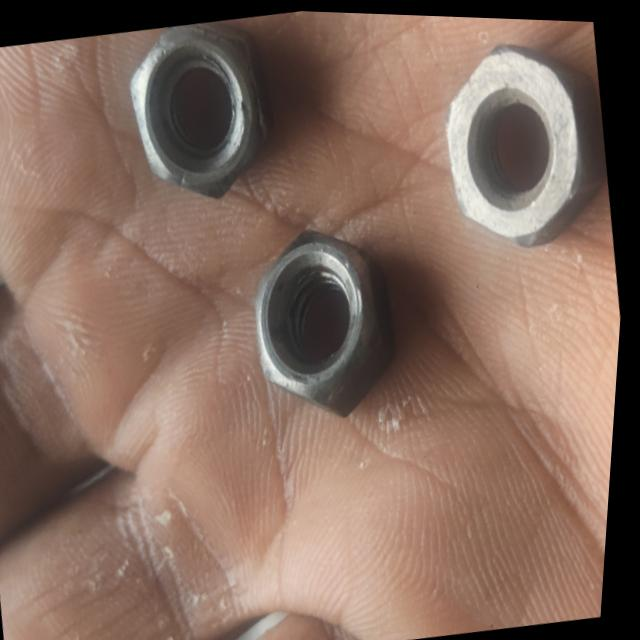disinfected nut: (448, 40, 607, 241), (259, 227, 399, 414), (131, 18, 271, 196)
